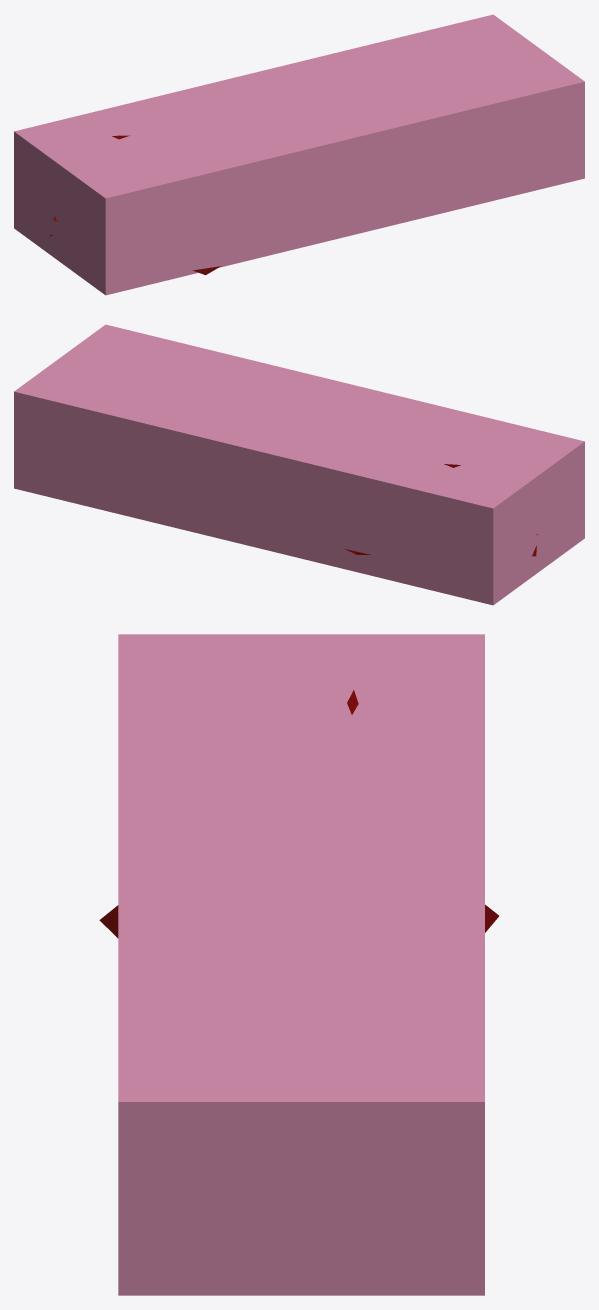
The model's file is tree_beech_dead_a.dae.
The picture shows the model from 3 angles, top to bottom: view 1: azimuth 30°, elevation 25°; view 2: azimuth 150°, elevation 25°; view 3: azimuth 270°, elevation 25°; orthographic projection. The views are drawn at different scales.
Parts seen in each view (by area): view 1: Untitled; view 2: Untitled; view 3: Untitled.
Boxes of the visible parts, left/top/right/bottom form: Untitled: left=14, top=14, right=584, bottom=295; Untitled: left=14, top=324, right=584, bottom=605; Untitled: left=118, top=634, right=484, bottom=1295.
Bounding box in the file's own units: 10.65 × 3.82 × 2.24.
